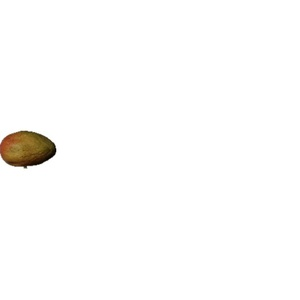mamão: (1, 129, 58, 171)
